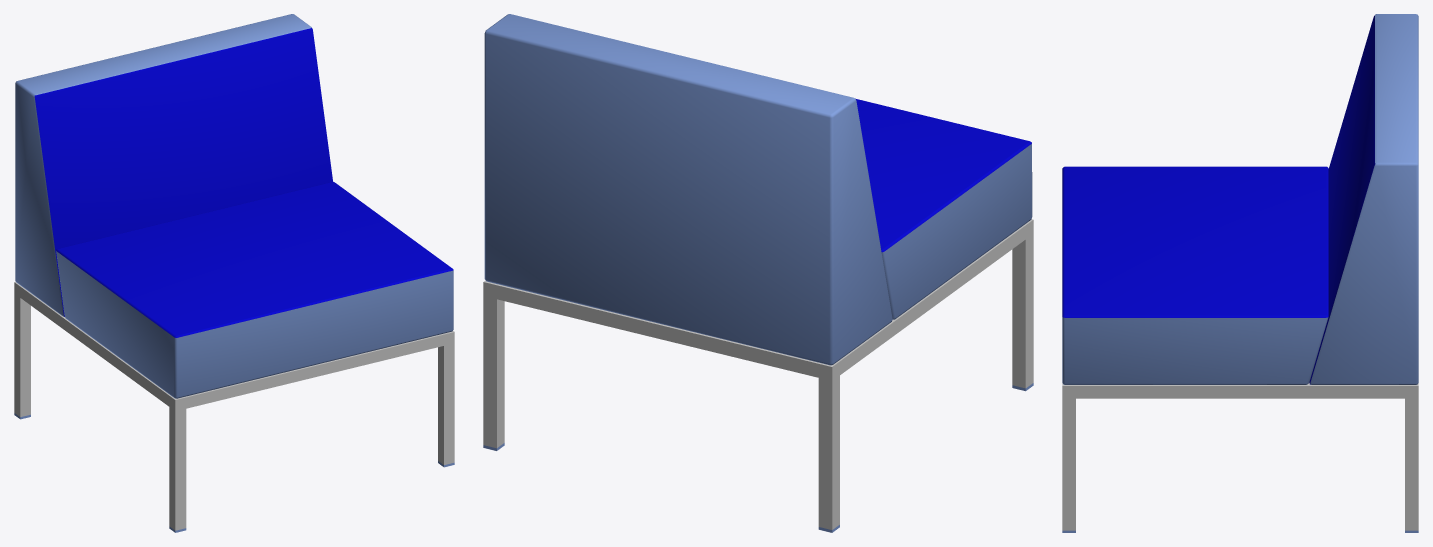
Rendered from cube-tuoli.fbx.
3 views of the same model, side by side, from view 1: azimuth 30°, elevation 25°; view 2: azimuth 150°, elevation 25°; view 3: azimuth 270°, elevation 25° (orthographic). The views are drawn at different scales.
Parts seen in each view (by area): view 1: BackTop, SeatTop, SeatBase, BackBase, Frame; view 2: BackBase, Frame, SeatTop, SeatBase; view 3: SeatTop, BackBase, SeatBase, Frame, BackTop.
Boxes of the visible parts, x1,y1,x2,y2 form: BackTop: (34,28,332,316); SeatTop: (56,181,453,337); SeatBase: (56,251,453,398); BackBase: (15,14,312,316); Frame: (14,281,454,532); BackBase: (484,14,892,365); Frame: (483,219,1033,532); SeatTop: (855,98,1031,252); SeatBase: (881,144,1032,319); SeatTop: (1062,166,1328,317); BackBase: (1310,14,1418,384); SeatBase: (1062,317,1328,384); Frame: (1062,383,1418,532); BackTop: (1309,15,1375,384).
Bounding box in the file's own units: 130 × 148 × 130.
